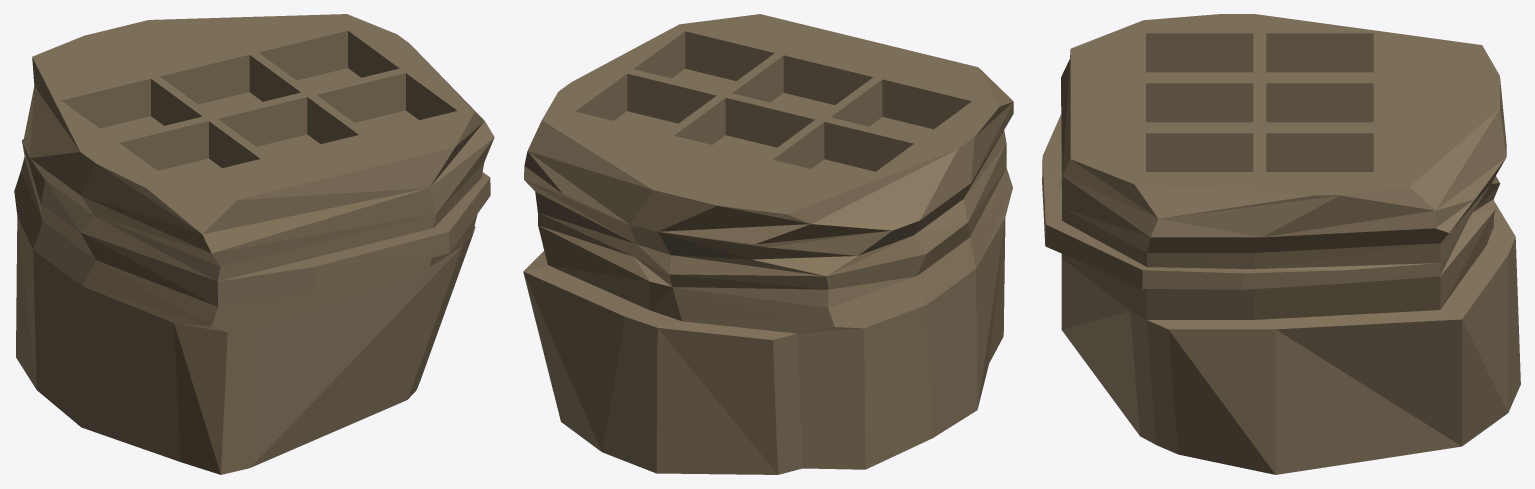
The model's file is rock_desktop.dae.
3 views of the same model, side by side, from view 1: azimuth 30°, elevation 25°; view 2: azimuth 150°, elevation 25°; view 3: azimuth 270°, elevation 25° (orthographic). The views are drawn at different scales.
Visible parts, largest first — view 1: Cube_031; view 2: Cube_031; view 3: Cube_031.
Part boxes in pixels (x1=…): Cube_031: x1=14, y1=14, x2=494, y2=474; Cube_031: x1=523, y1=14, x2=1013, y2=474; Cube_031: x1=1042, y1=14, x2=1520, y2=474.
Size of the model in its own units: 2.08 by 2.23 by 1.48.
